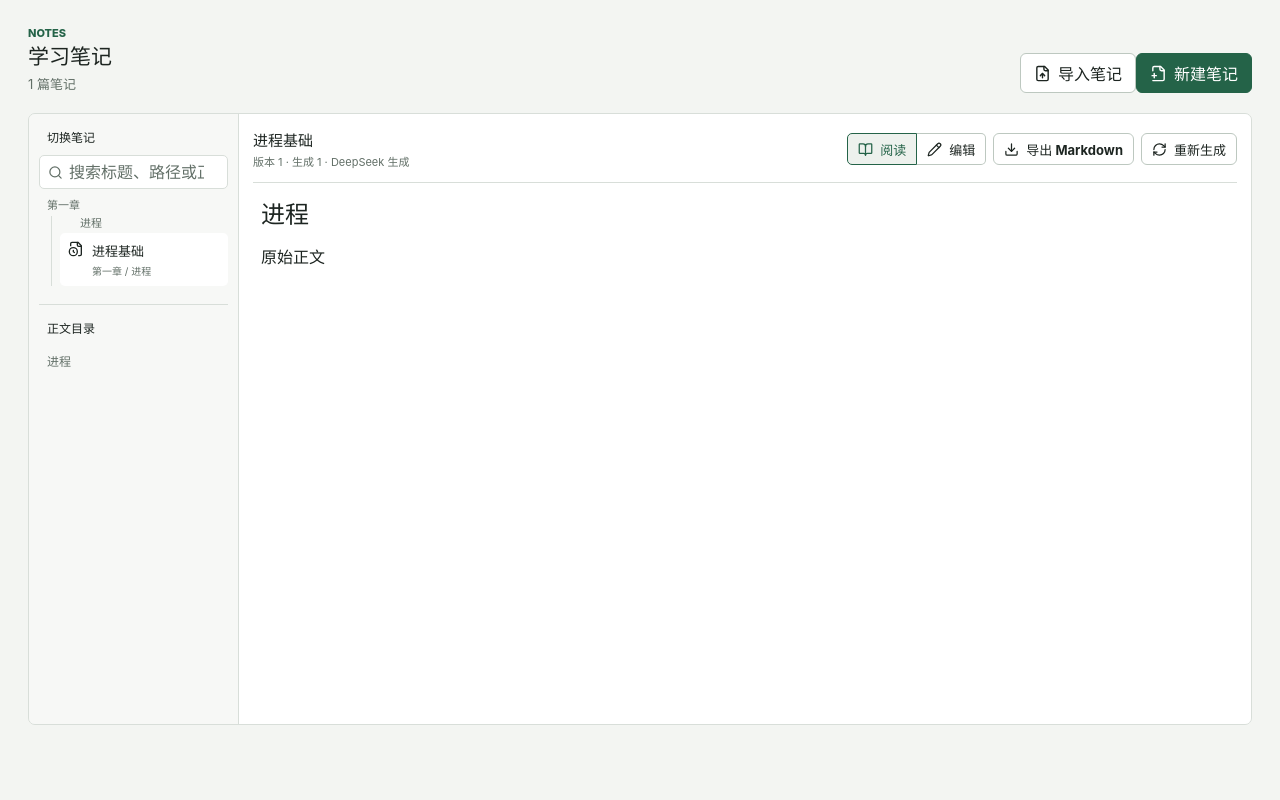
Test: NotesPage › edits a note while preserving active, stale, and unavailable source states
Expected: the element named "笔记阅读视图" shows "原始正文", top-left (261, 247), bottom-right (325, 267)
Click the button "编辑".
click(952, 149)  # box top-left (917, 133), bottom-right (986, 165)
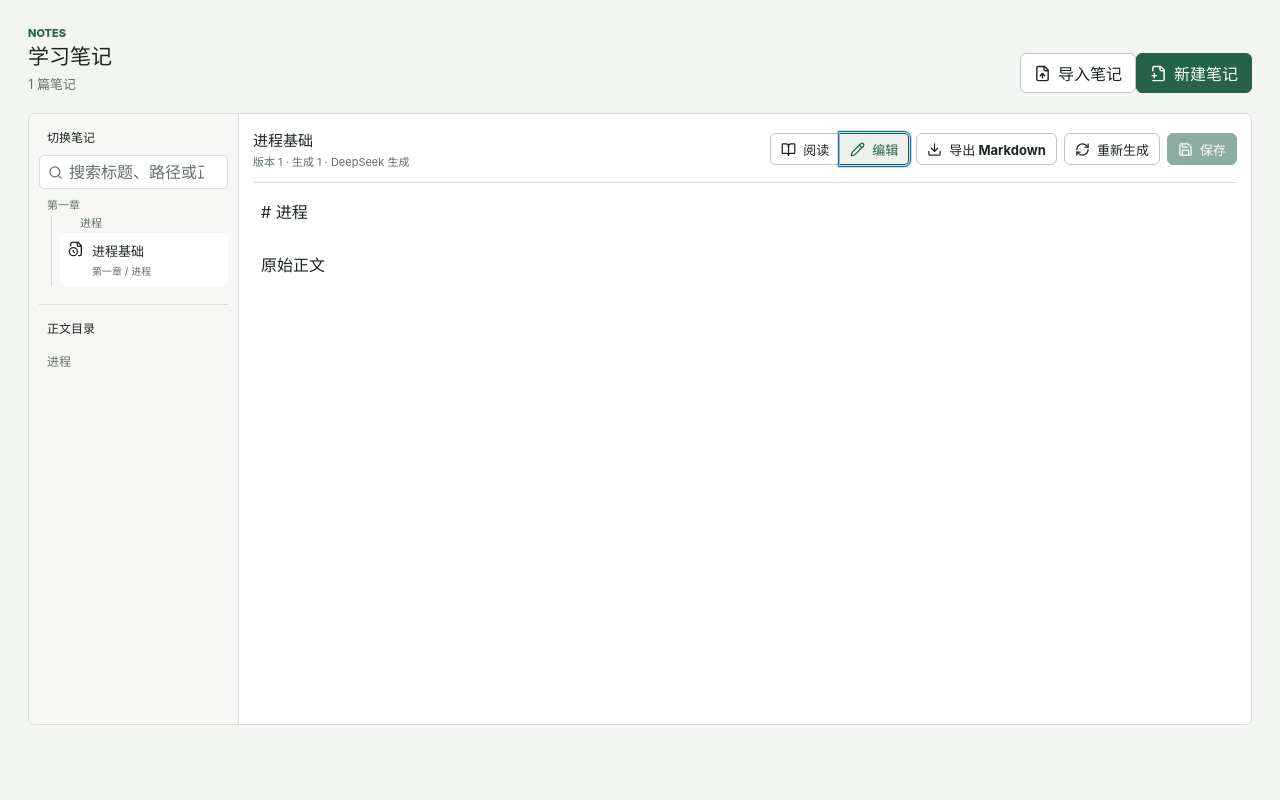
Replace the text in the text box named "笔记正文" with "# 更新正文" at (745, 446), box top-left (253, 182), bottom-right (1237, 710)
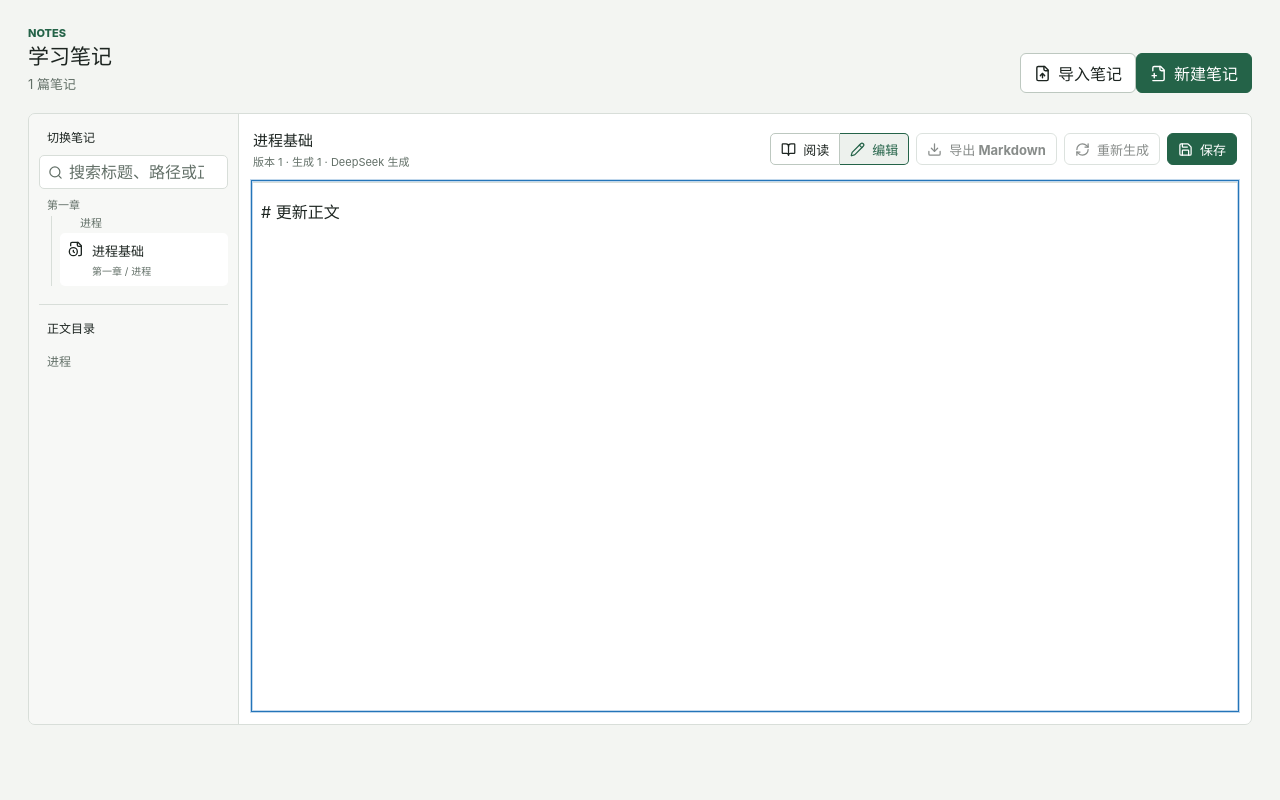
Result: the button "重新生成" is disabled at top-left (1064, 133), bottom-right (1160, 165)
Click the button "保存".
click(1202, 149)  # box top-left (1167, 133), bottom-right (1237, 165)
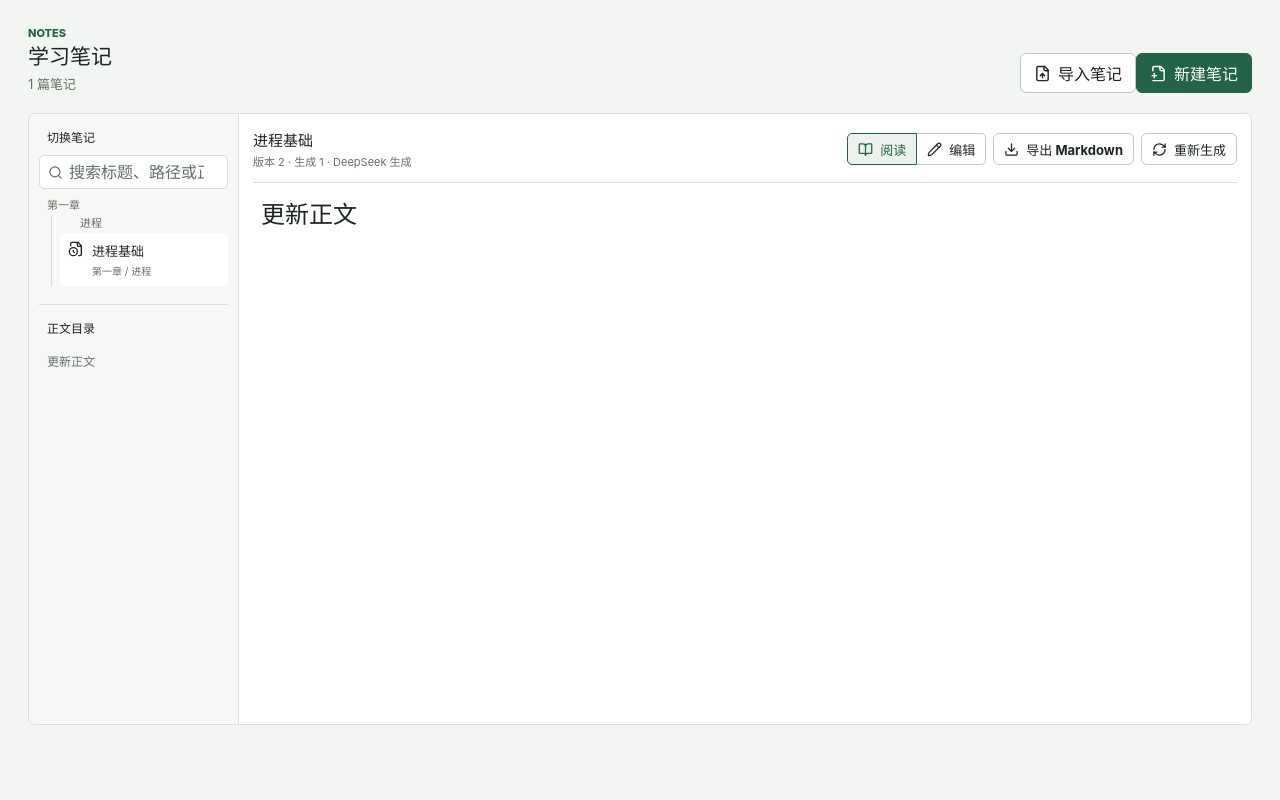
Result: the text "版本 2 · 生成 1 · DeepSeek 生成" is shown at top-left (253, 155), bottom-right (412, 169)
Result: the element named "笔记阅读视图" reads "更新正文" at top-left (261, 200), bottom-right (357, 229)
